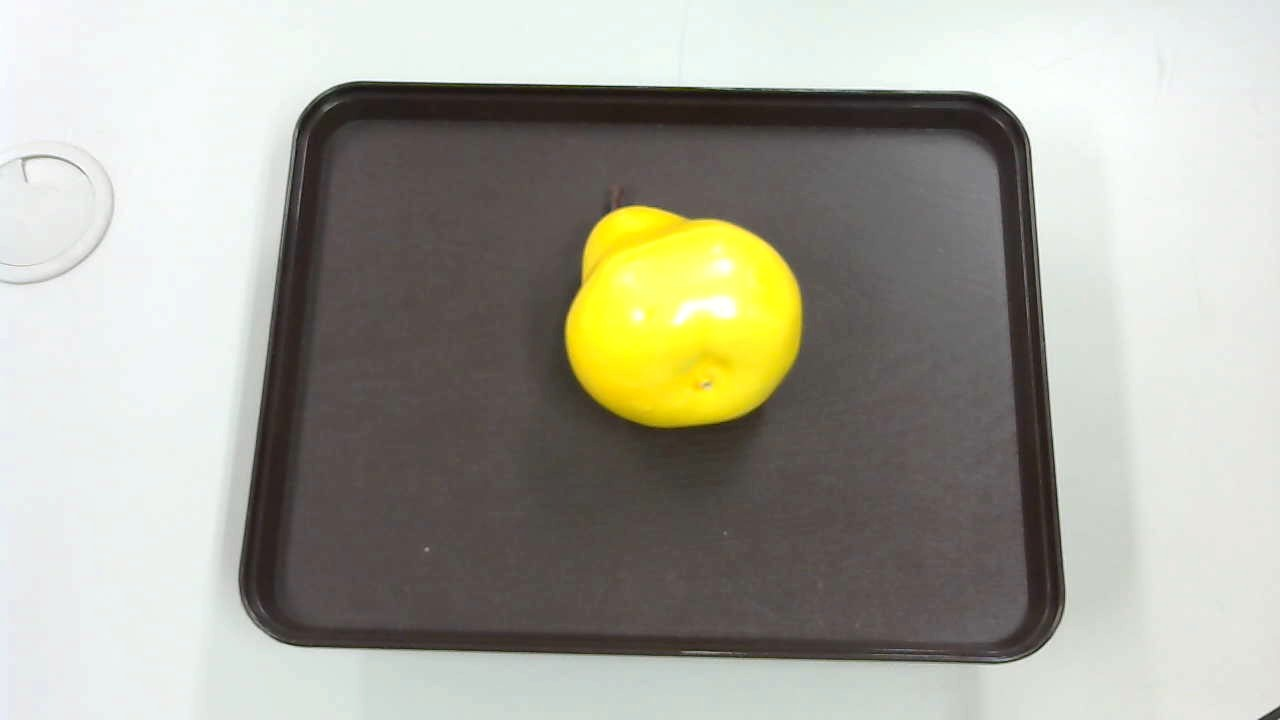yellow pear: (554, 171, 815, 439)
